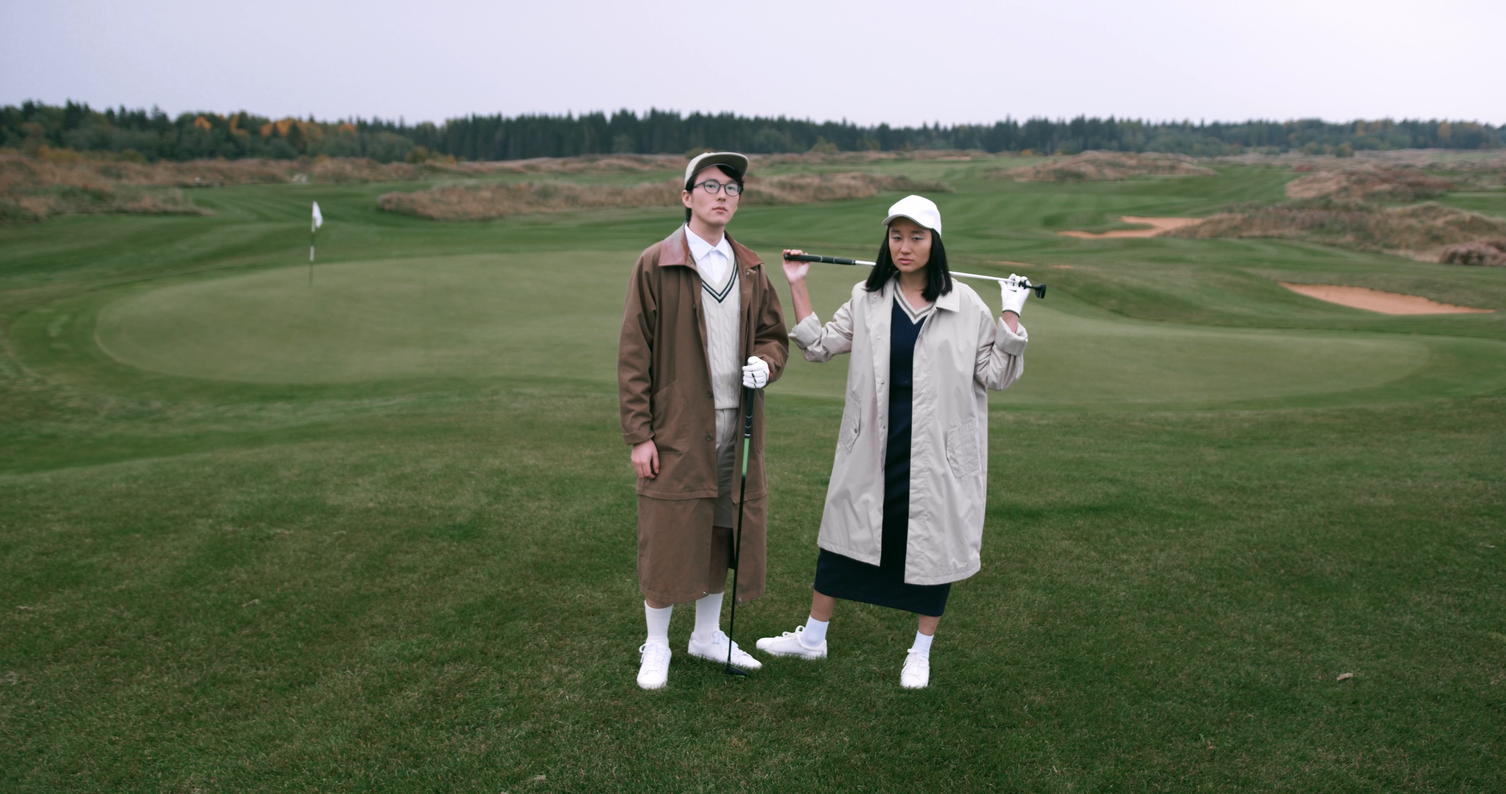No-gloves: (620, 436, 680, 489), (776, 239, 816, 291)
gloves: (982, 270, 1065, 318), (734, 351, 775, 402)
